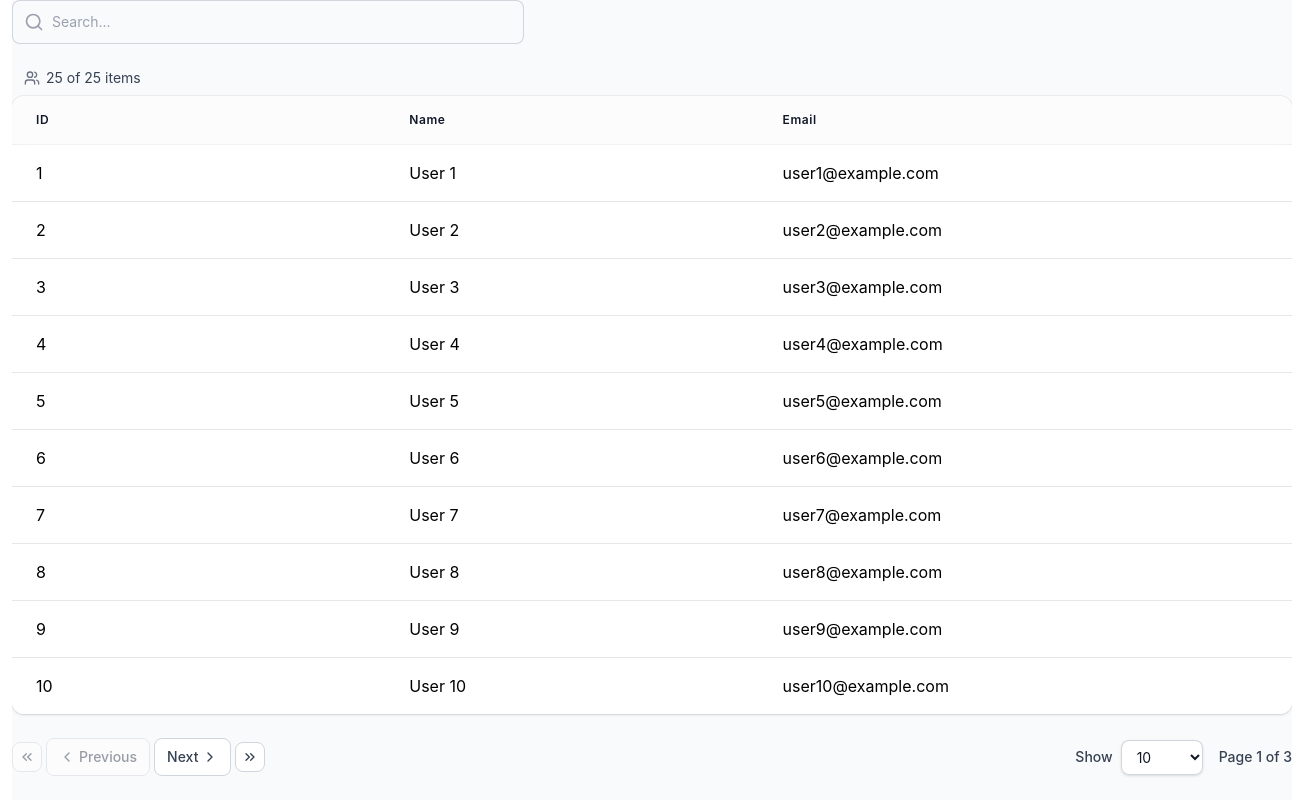
it: GenericDataTable › handles page size changes correctly
Expected: the text "Page 1 of 3" is shown, [1219, 748, 1292, 765]
Note: Change page size to 20
Select "20" in the dropdown labelled "Show" at {"x": 1162, "y": 757}, box [1121, 740, 1203, 774]
(page scrolled)
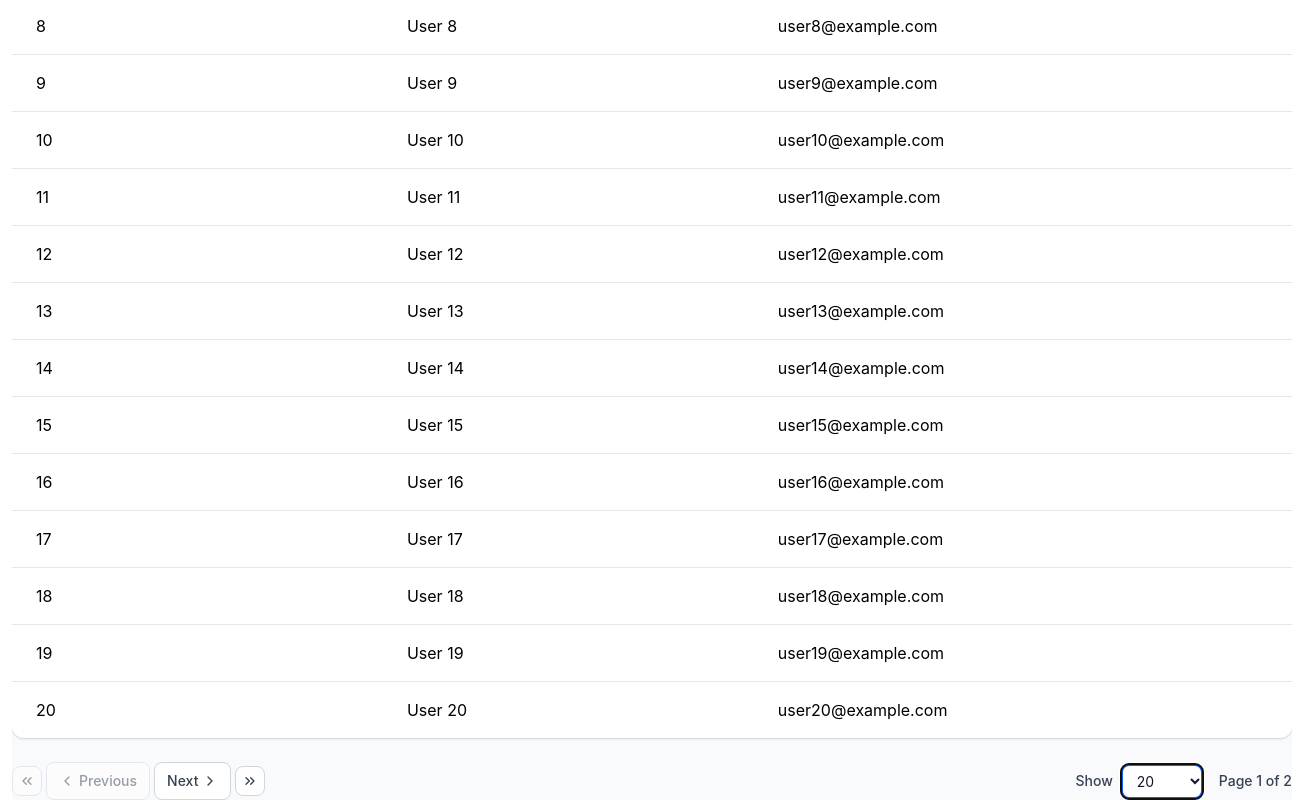
Expected: the text "User 21" is not shown
Expected: the text "Page 1 of 2" is shown, [1219, 772, 1292, 789]
Expected: the text "User 20" is shown, [383, 682, 754, 738]
Note: Change page size to 50 (should fit all items on one page)
Select "50" in the dropdown labelled "Show" at {"x": 1162, "y": 781}, box [1121, 764, 1203, 798]
(page scrolled)
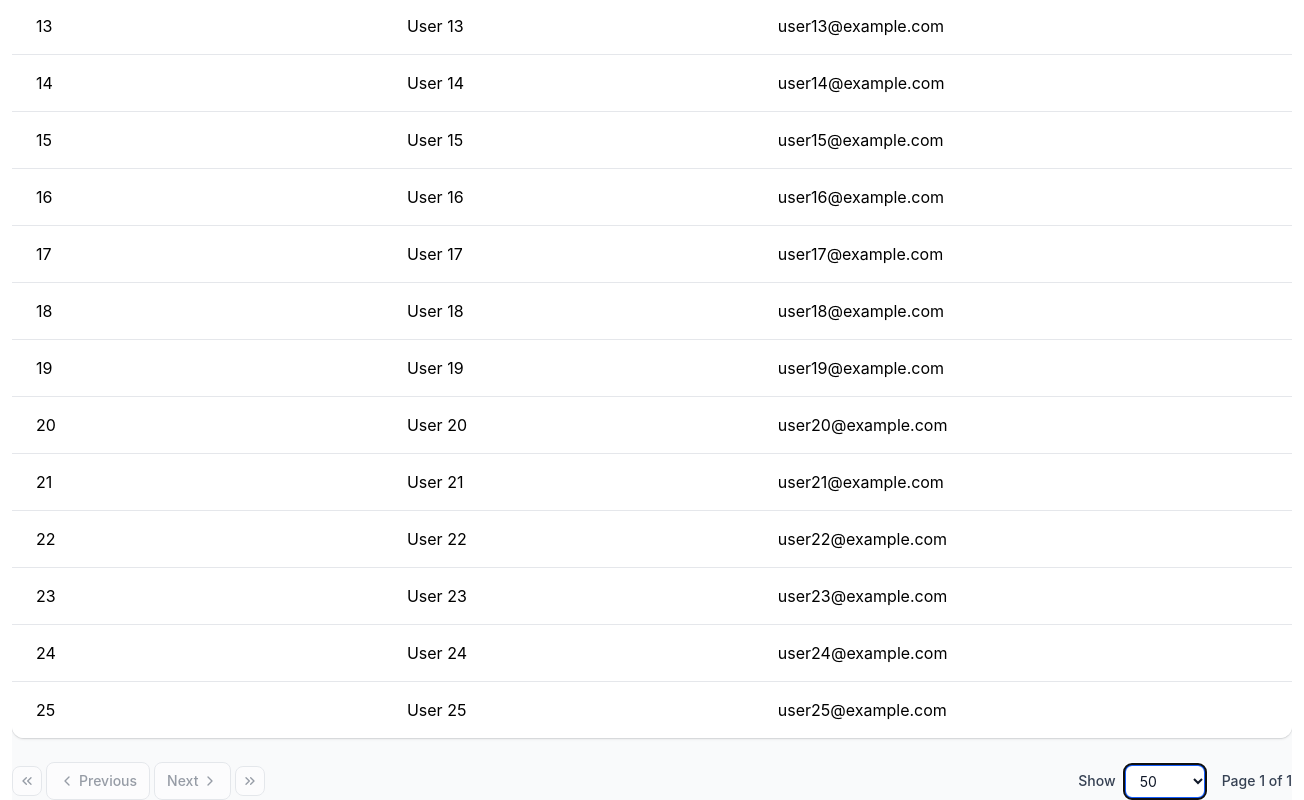
Expected: the text "Page 1 of 1" is shown, [1222, 772, 1292, 789]
Expected: the text "User 25" is shown, [383, 682, 754, 738]
